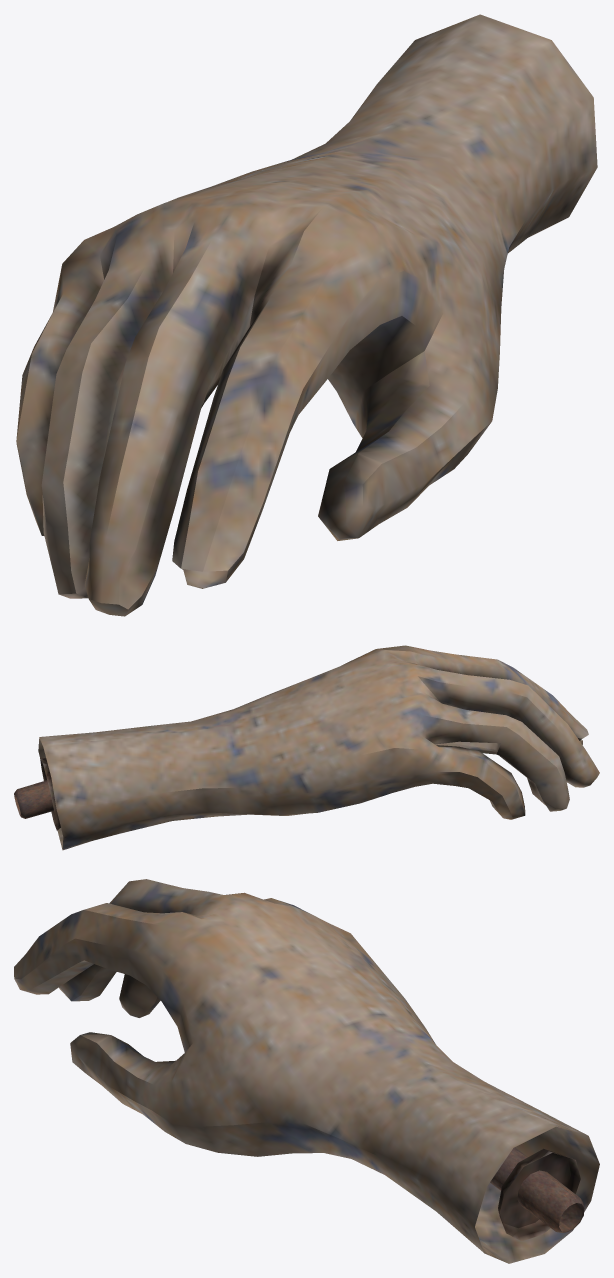
The model's file is heand.fbx.
The picture shows the model from 3 angles, top to bottom: view 1: azimuth 30°, elevation 25°; view 2: azimuth 150°, elevation 25°; view 3: azimuth 270°, elevation 25°; orthographic projection. The views are drawn at different scales.
Visible parts, largest first — view 1: Object_2.007; view 2: Object_2.007; view 3: Object_2.007.
Part boxes in pixels (left/top/right/bottom): Object_2.007: left=16, top=14, right=597, bottom=616; Object_2.007: left=14, top=645, right=599, bottom=850; Object_2.007: left=14, top=879, right=599, bottom=1263.
Size of the model in its own units: 28.7 by 10.5 by 26.83.
1 material, 1 textured.
